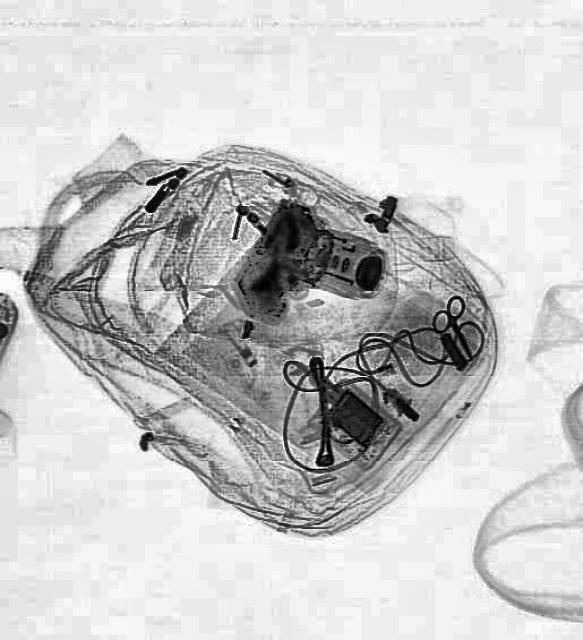Scissors: (422, 292, 489, 370)
